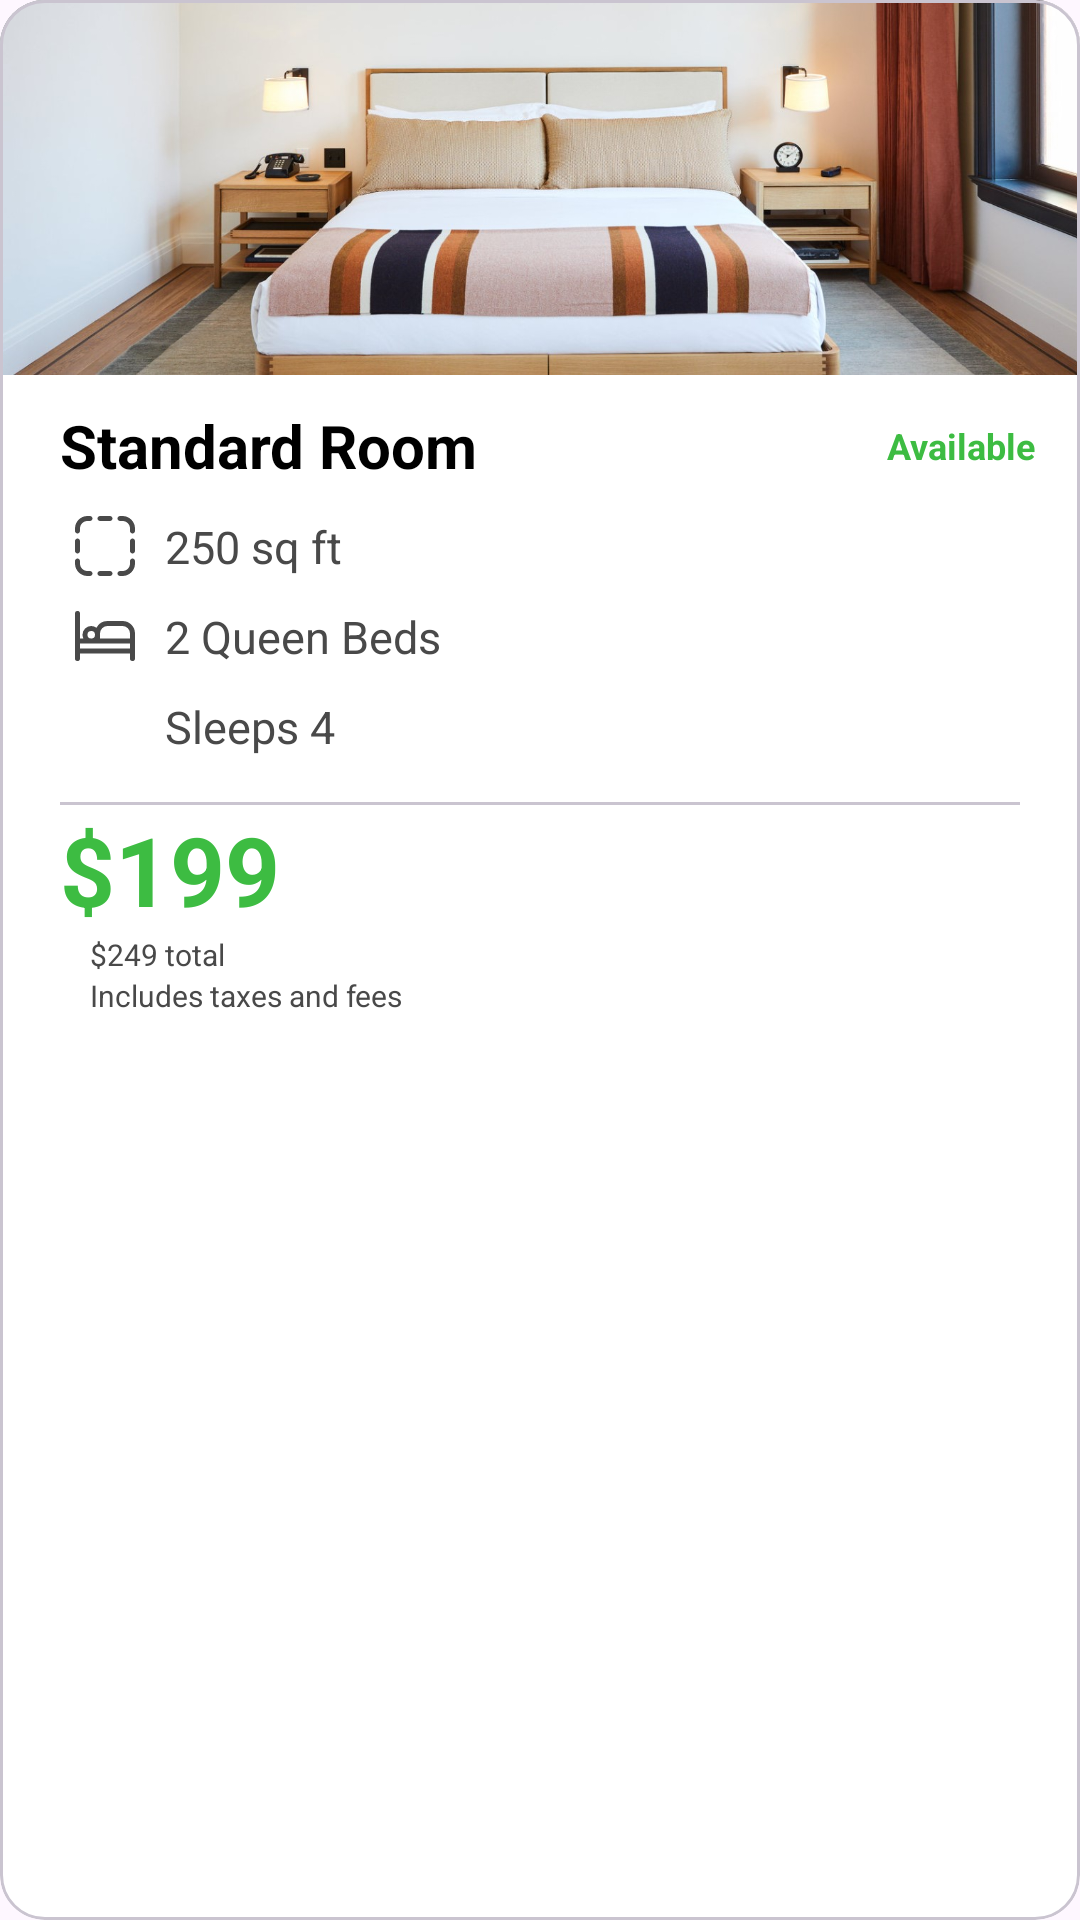

Icons on this 1080×1920 Android screen, each with its box as (x1, y1, x2, y2):
bed: (75, 611, 135, 661)
square: (75, 516, 135, 576)
